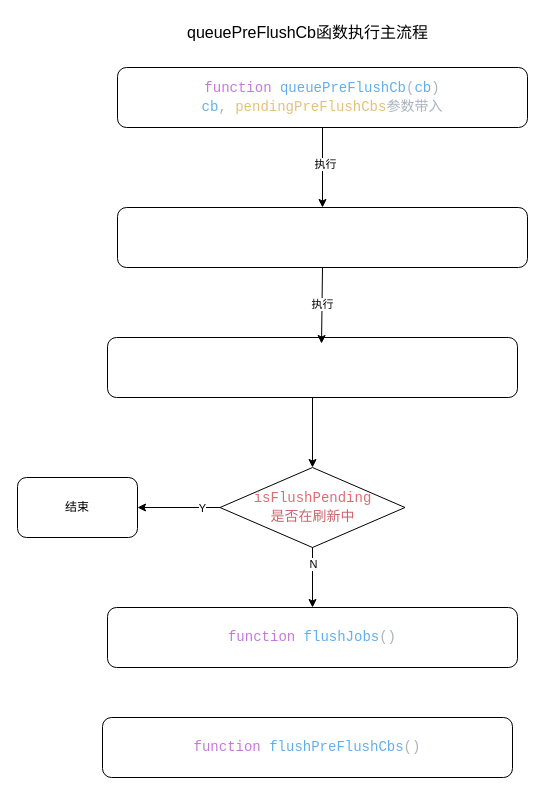
This 545x795 diagram has some shape labels left out. The shapes that lost their labels are listed below. From the top down, each one's centre as x and y in pixels, then its label:
the point at 322,237: function queueCb ( cb , pendingCbs ) pendingCbs . push ( cb )推入回调
the point at 312,367: function queueFlush ()
